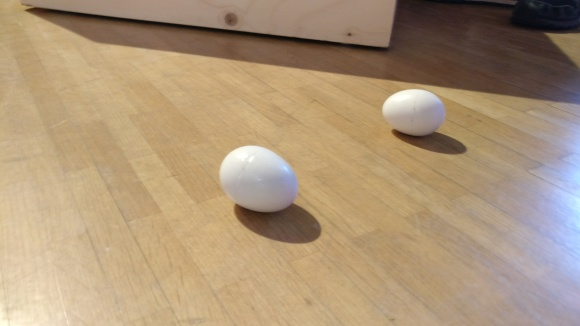egg: (218, 145, 299, 214), (381, 88, 447, 138)
